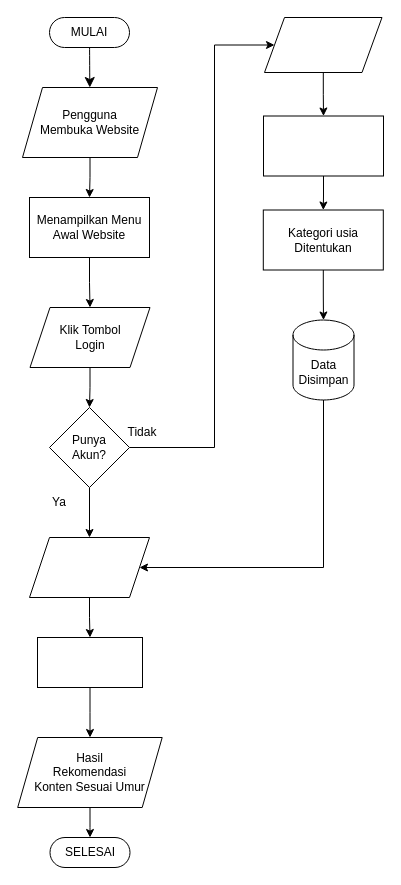
The diagram is 401 pixels wide and 885 high, and some of its shapes have lost their labels. The centre of each missing label's shape, as x and y in pixels:
"Masukan Username Dan Password" goes at pixel 89 567.
"Proses Kategori Usia" goes at pixel 323 145.
"Register Akun Pengguna" goes at pixel 323 44.
"Validasi Data" goes at pixel 89 662.
